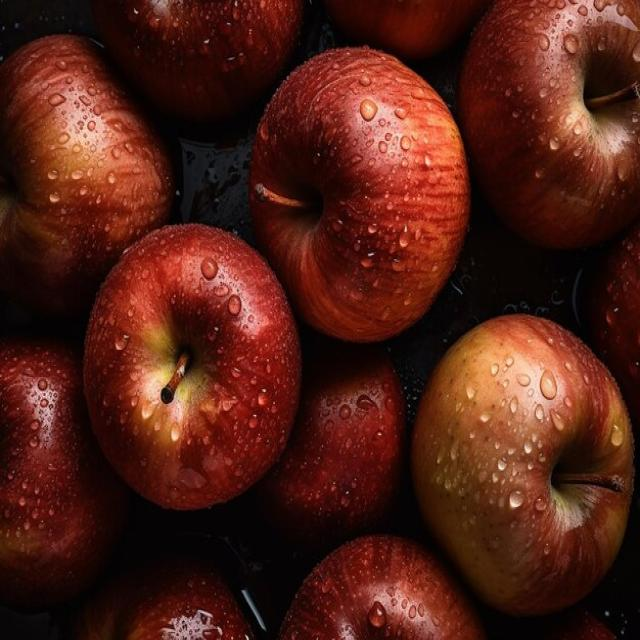apple_fruit: (232, 42, 480, 357), (410, 302, 639, 616), (74, 221, 302, 520), (462, 0, 639, 258)
